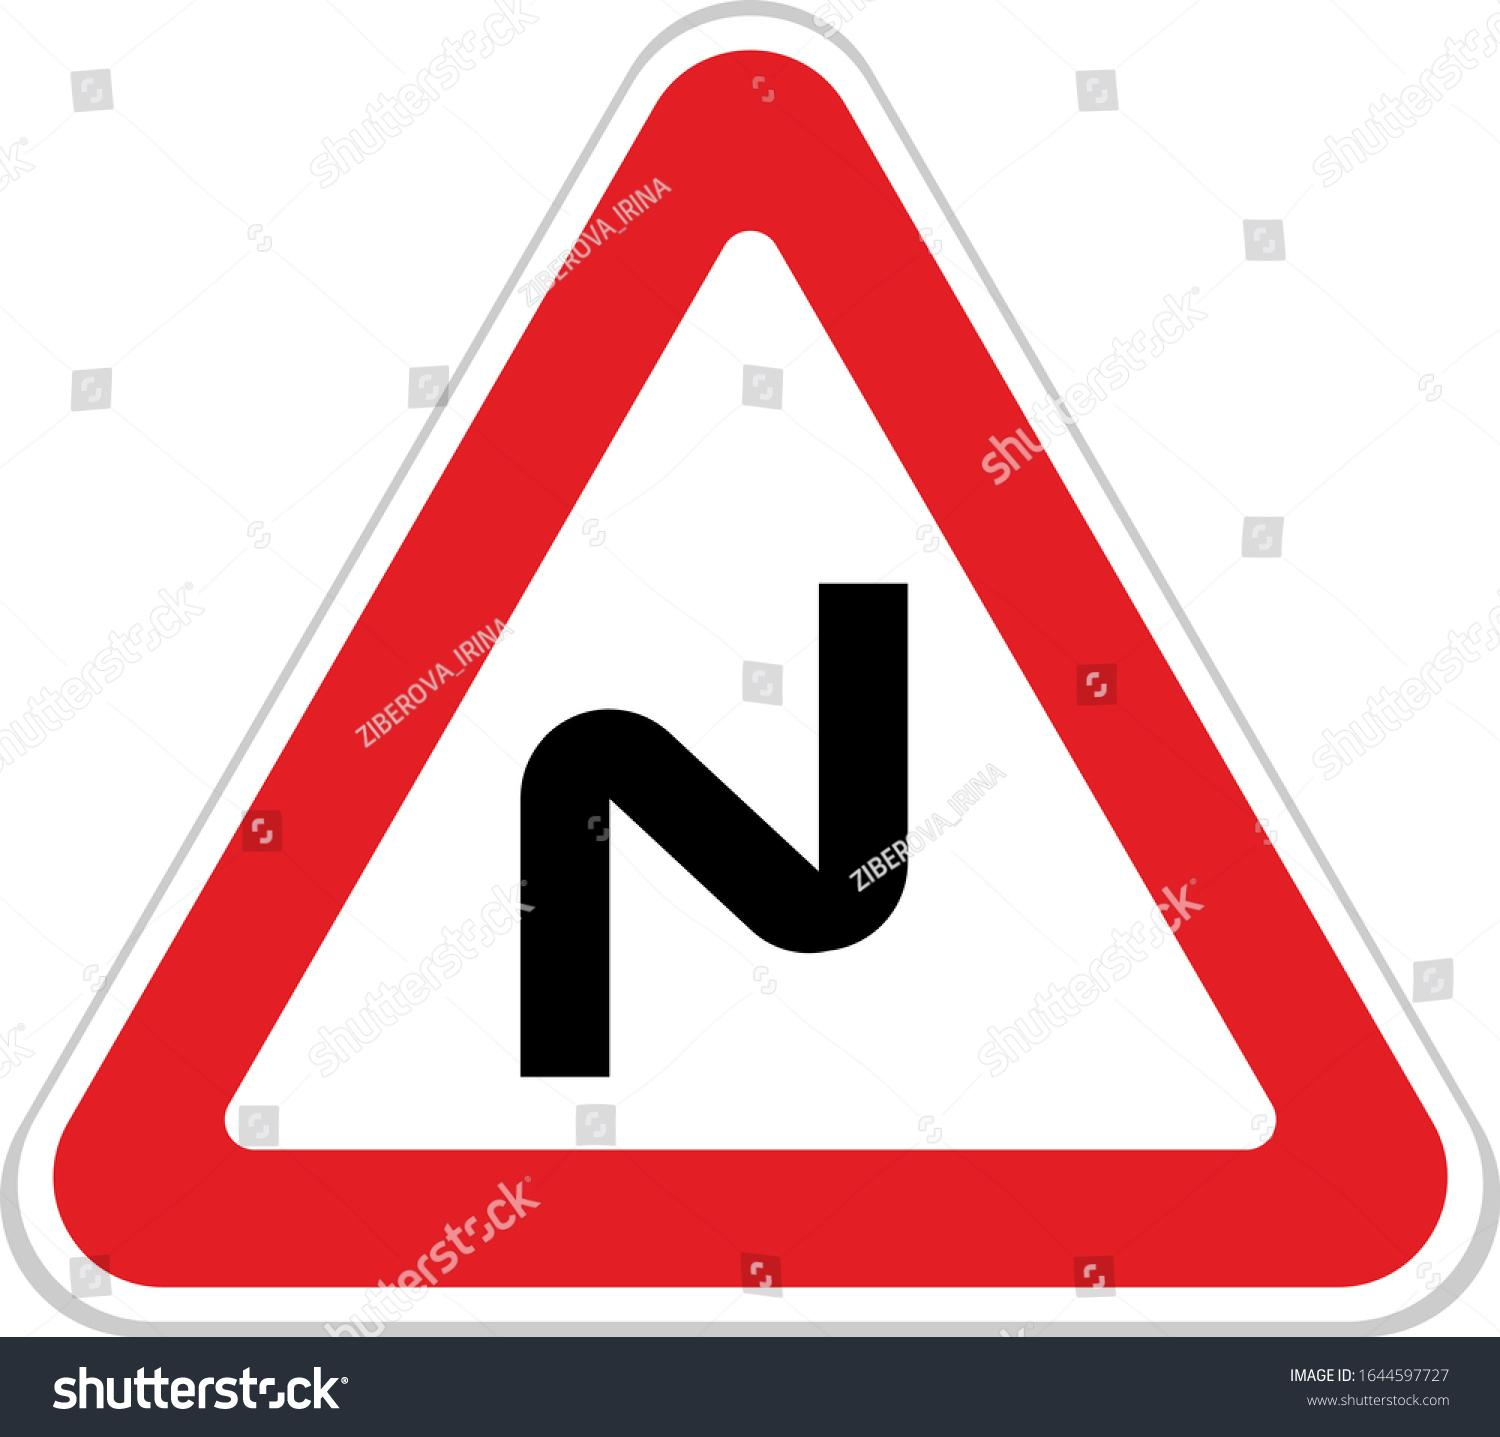Right Reverse Bend: (104, 17, 1408, 1263)
